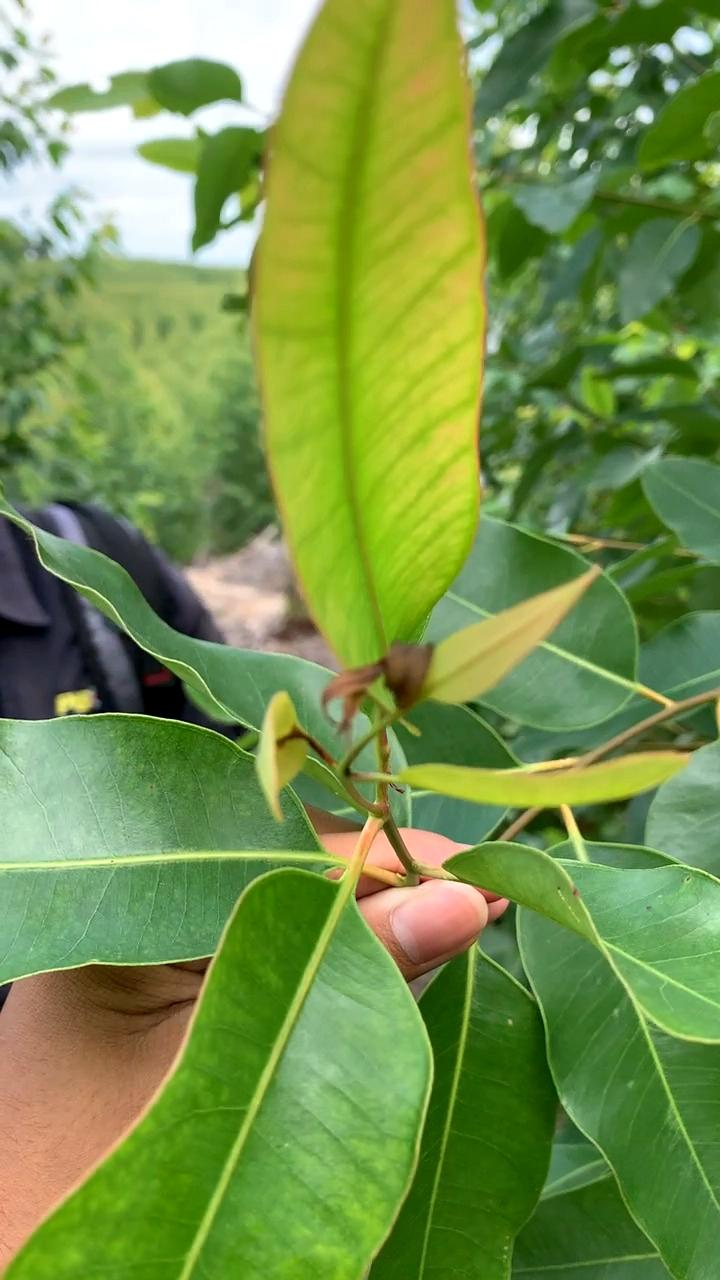Helopeltis-Withered Sprout: (317, 642, 436, 724)
